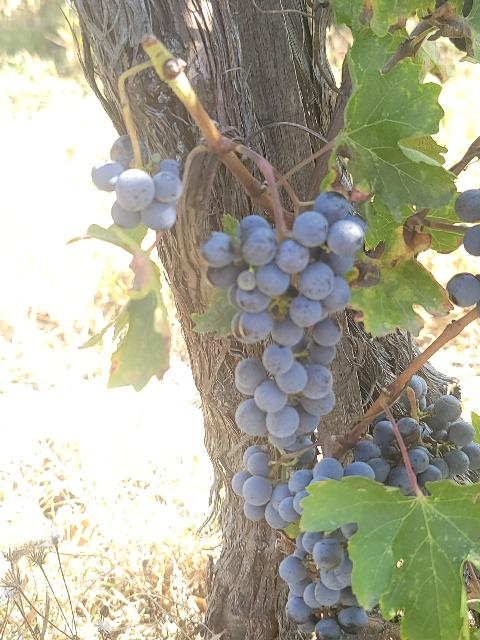grapes: (201, 192, 365, 448), (279, 522, 368, 640), (232, 458, 376, 530), (395, 376, 480, 486), (91, 135, 182, 231), (354, 415, 415, 495)
